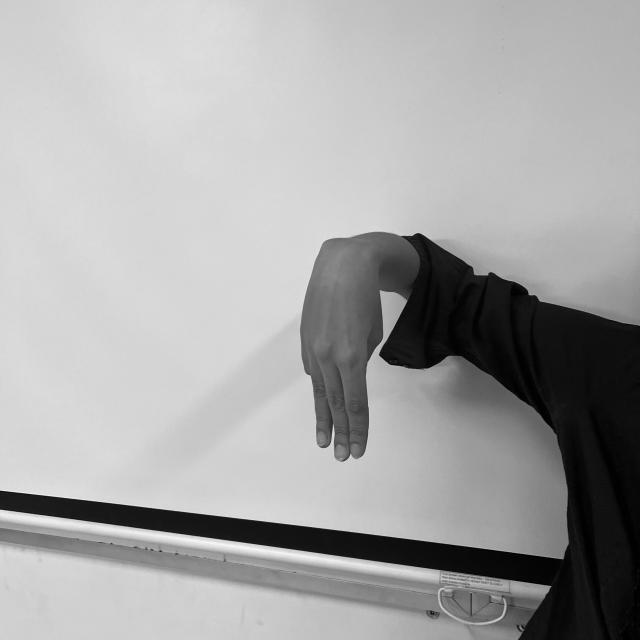Letra M: (295, 237, 385, 465)
